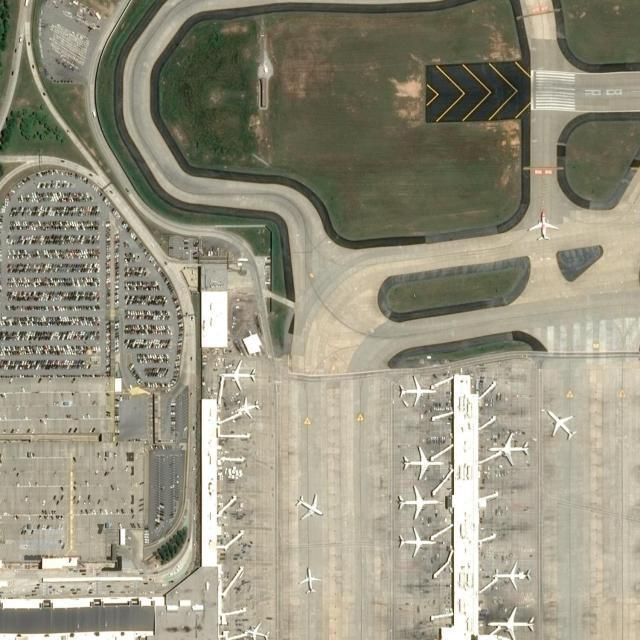Aircraft: (488, 603, 536, 639), (393, 519, 435, 558), (396, 480, 438, 518), (488, 428, 530, 466), (402, 444, 442, 478), (398, 373, 438, 405), (219, 358, 257, 390), (493, 560, 532, 590), (545, 407, 579, 441), (528, 211, 559, 239), (295, 491, 324, 519), (298, 565, 322, 593), (234, 396, 260, 418), (244, 621, 272, 640)
